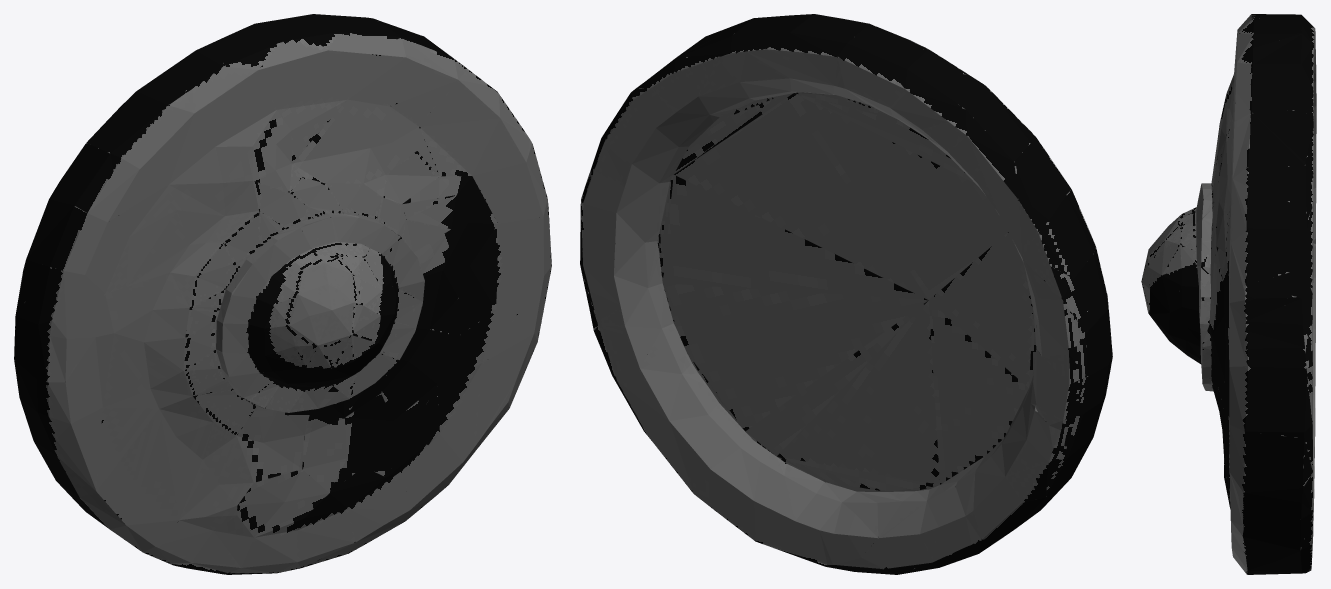
3 renders of one model, left to right at view 1: azimuth 30°, elevation 25°; view 2: azimuth 150°, elevation 25°; view 3: azimuth 270°, elevation 25°, orthographic. The views are drawn at different scales.
Visible parts, largest first — view 1: OBJ03e; view 2: OBJ03e; view 3: OBJ03e.
Part boxes in pixels (box(x1,y1,x2,y2)): OBJ03e: box(14, 14, 551, 574); OBJ03e: box(580, 14, 1112, 574); OBJ03e: box(1141, 14, 1316, 574).
Size of the model in its own units: 0.2299 by 0.2297 by 0.0717.
Materials: 1 (1 with a texture image).
